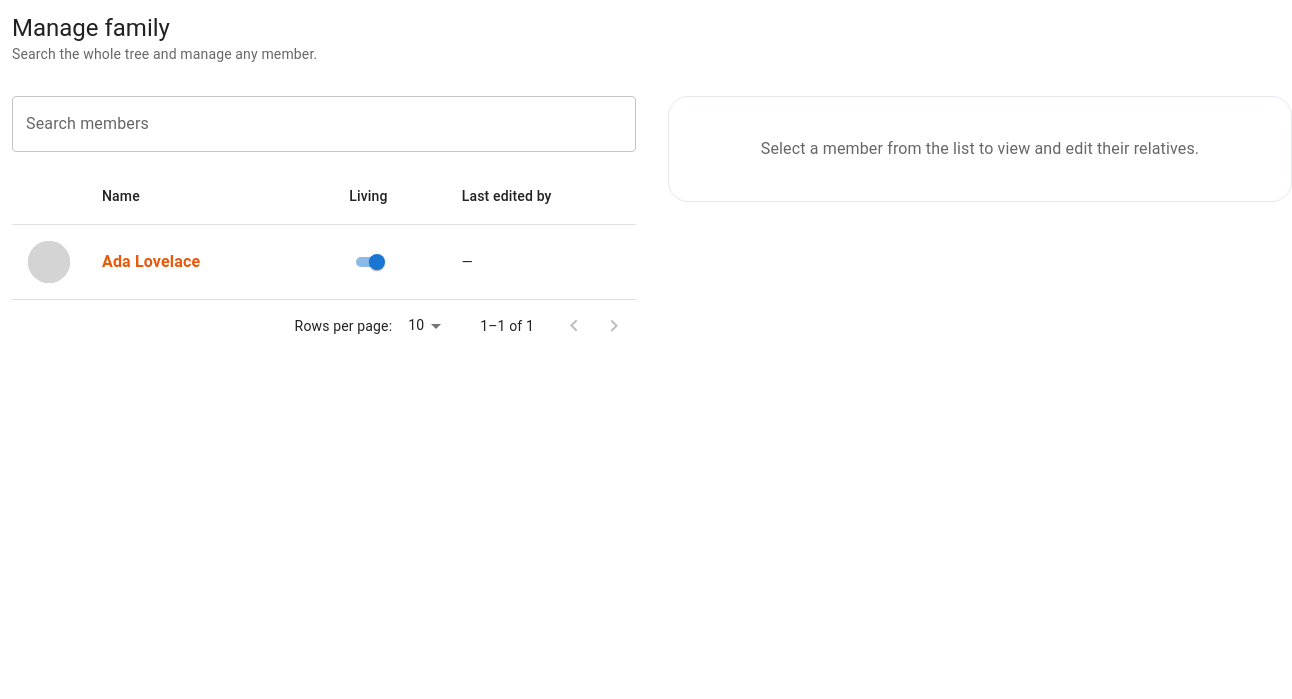
Scenario: ManagePage (admin branch) › shows an active Edit button for every card in the admin-focused panel regardless of linkedUser (D-06 bypass)
This screenshot has width=1292, height=699.
Click the text "Ada Lovelace" at (151, 262), box [102,252,200,271]
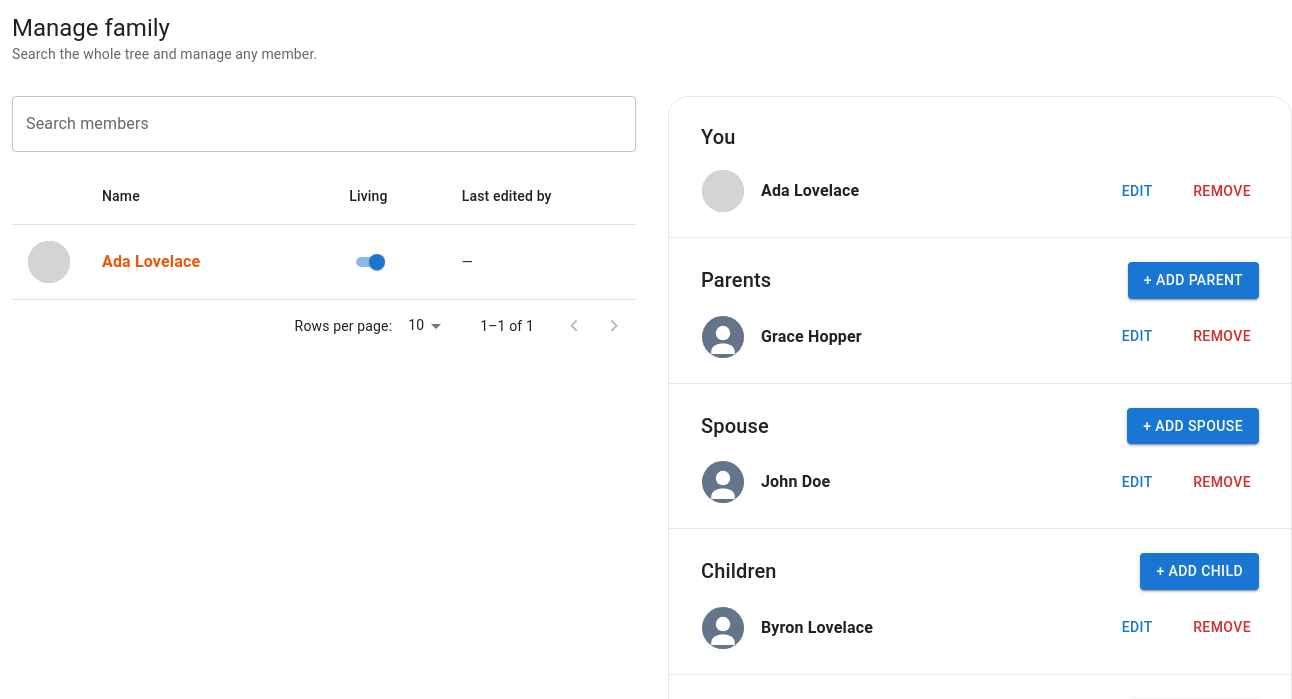
Check: the text "Grace Hopper" is shown, box [761,324,862,348]
Check: the number of buttons "Edit" is 5
